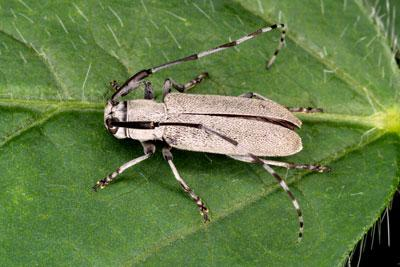Insects: (88, 15, 336, 249)
